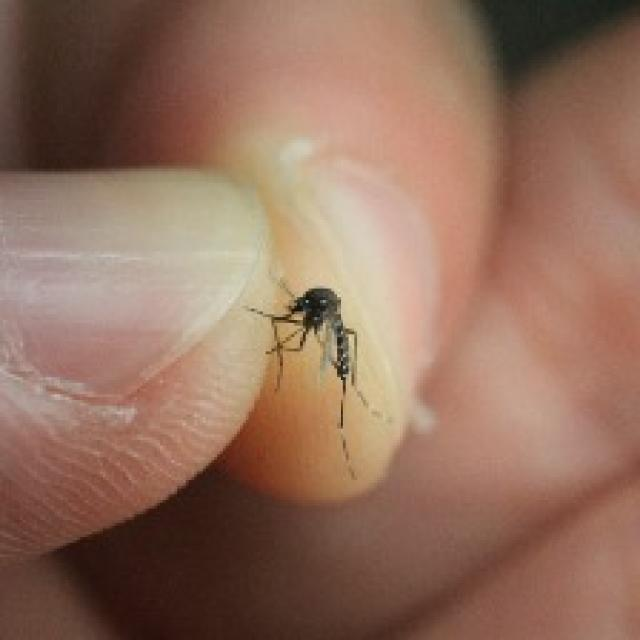aedes: (208, 213, 456, 504)
